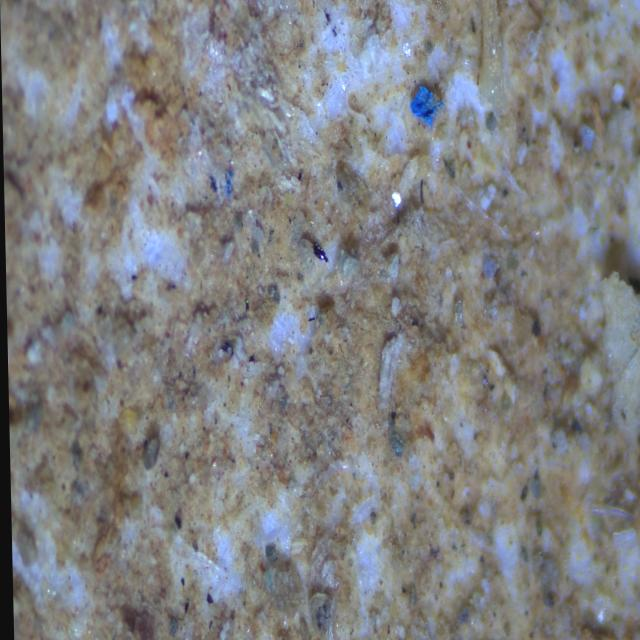microplastic: (402, 80, 446, 128), (222, 167, 233, 201)
